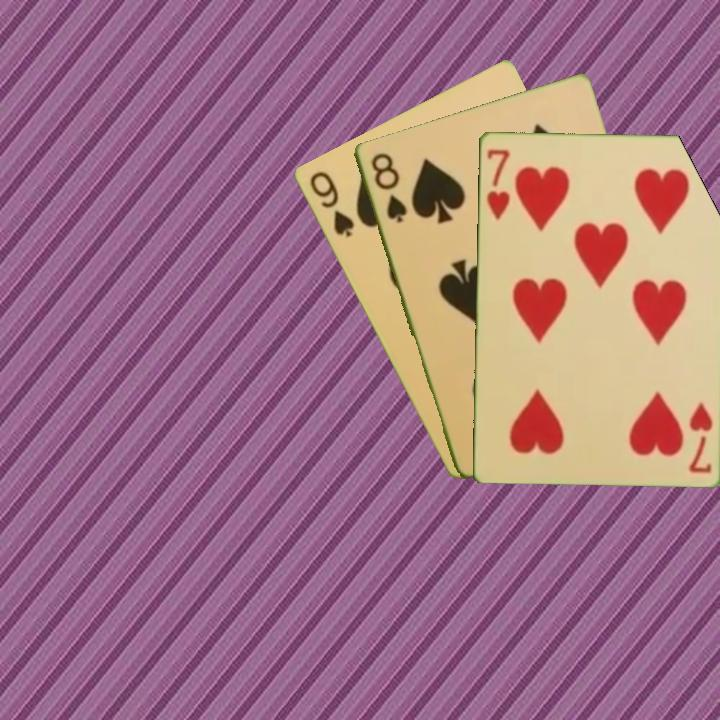7h: (684, 398, 715, 476), (482, 145, 512, 222)
8s: (367, 149, 410, 226)
9s: (305, 167, 357, 240)
